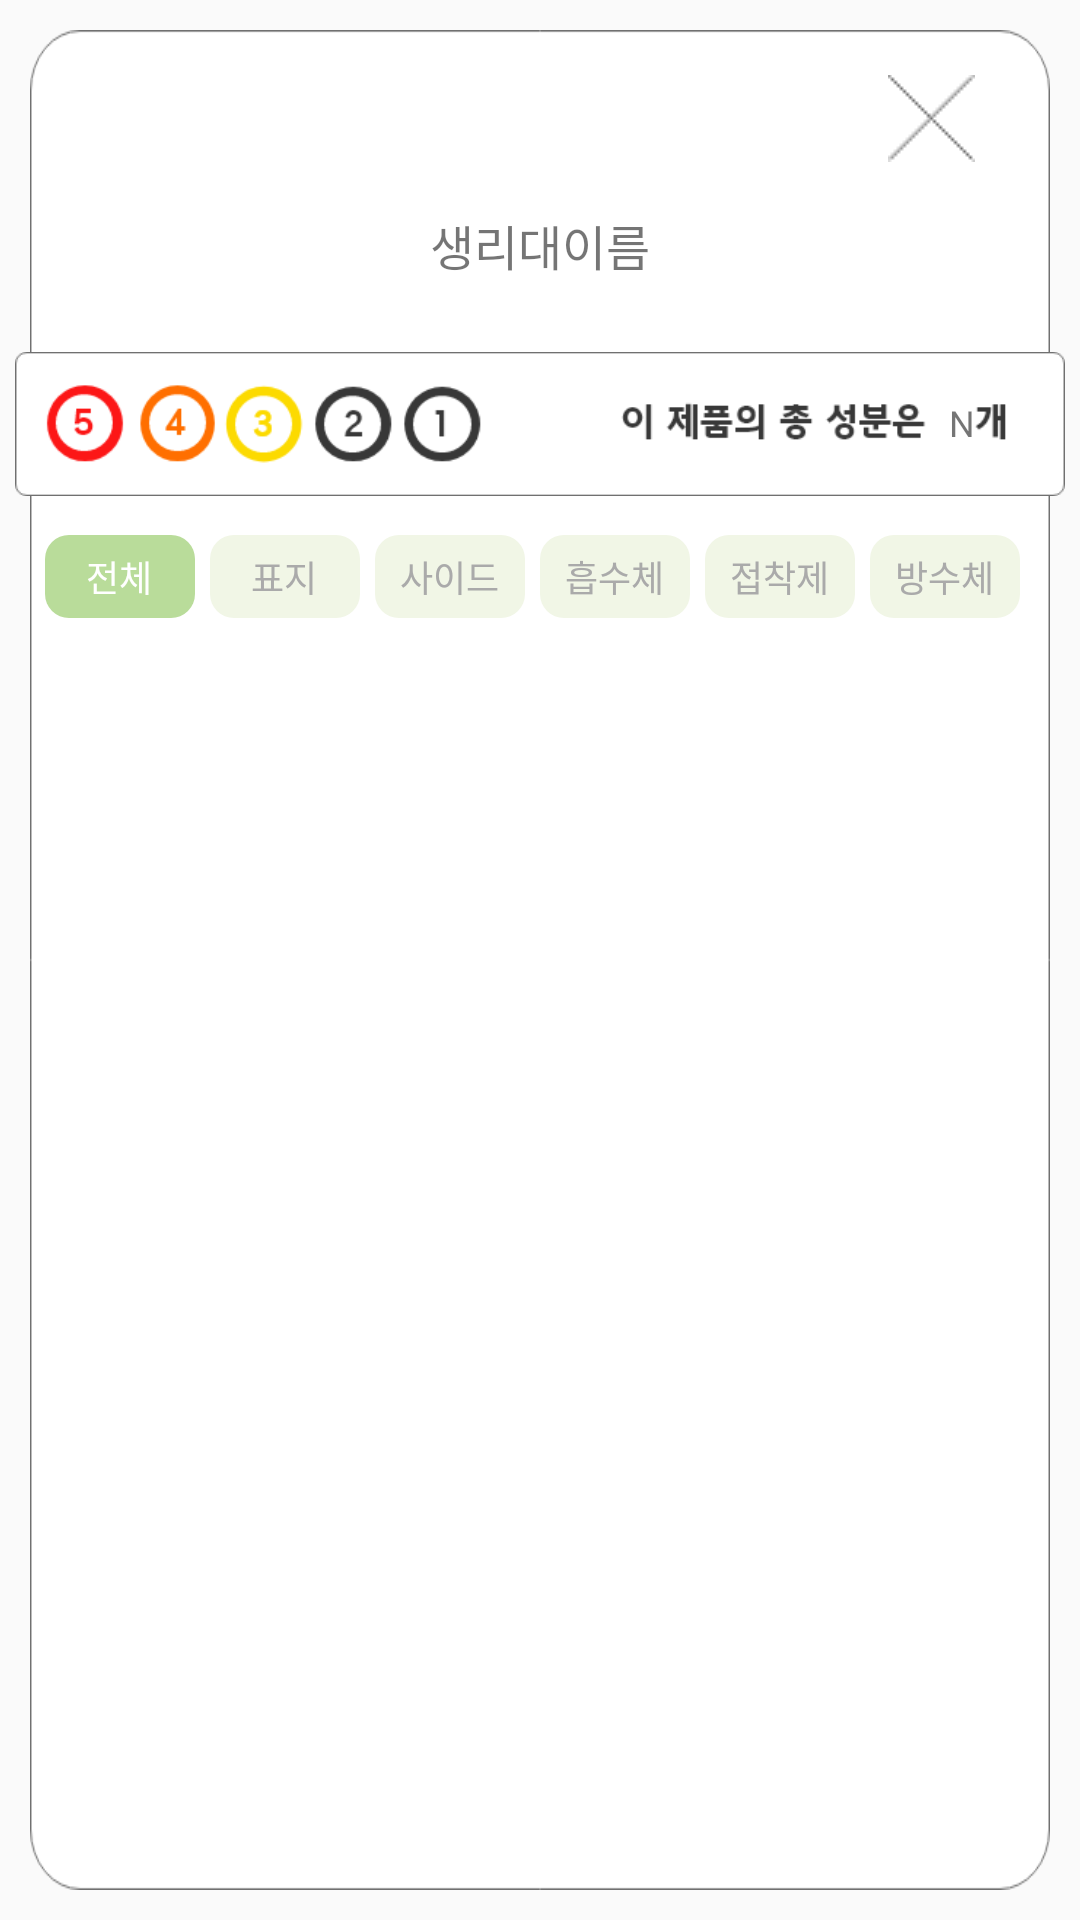

Screen size 1080×1920. Icon name, then its box in pixels as bbox=[x1, y1, x2, y2]:
san exit: bbox=[888, 75, 975, 162]
